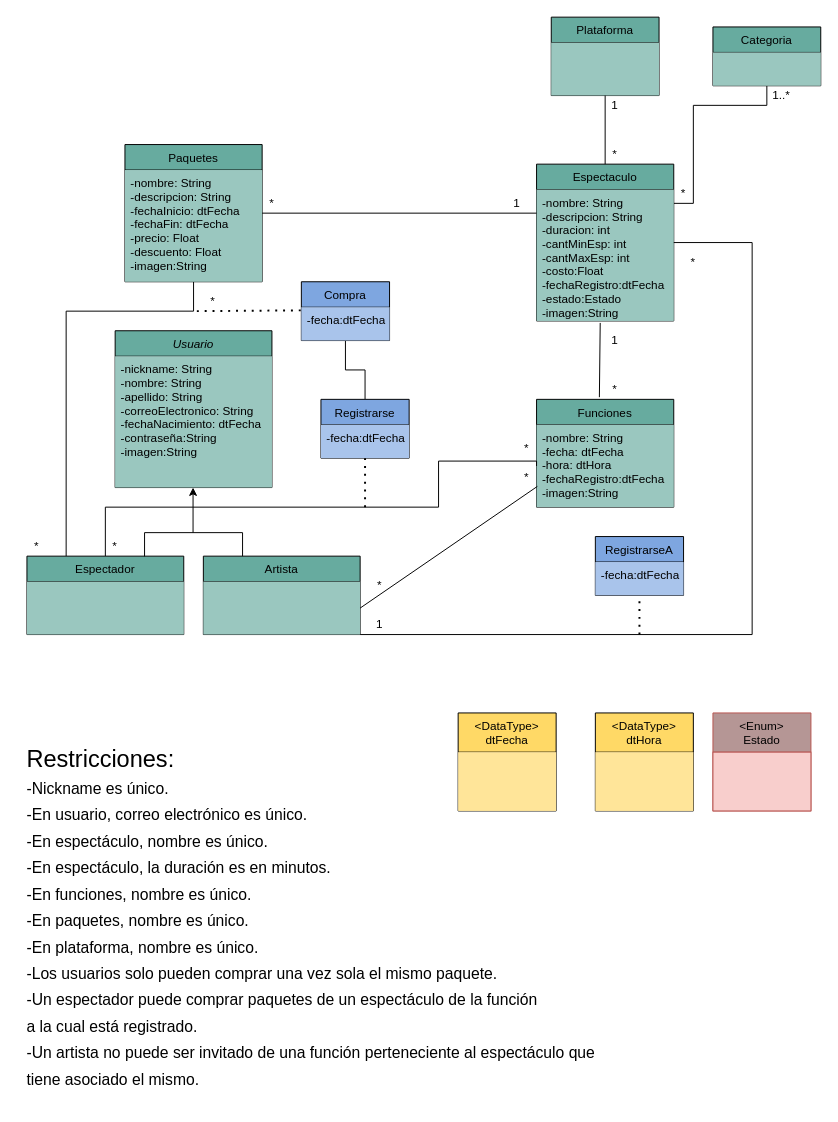
The diagram is 838 pixels wide and 1122 high, and some of its shapes have lost their labels. Here are the shapes that lost their labels. From the top down, the centre of each, then its label:
the point at 605,68: -nombre:String -URL: String
the point at 766,68: -nombre:String
the point at 281,607: -descripcion: String -biografia: String -linkSitioWeb: String
the point at 507,781: -anio: int -mes:int -dia:int
the point at 644,781: -hora: int -min: int -seg: int
the point at 761,781: -Aceptado -Rechazado -Ingresado
